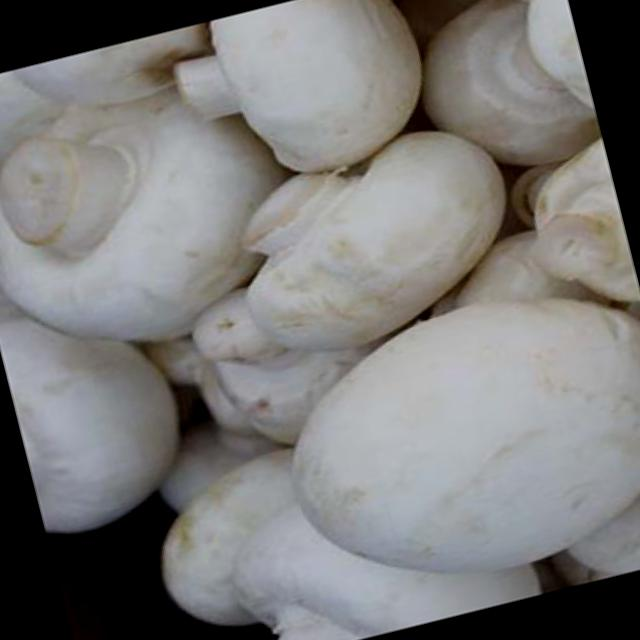Agaricus bisporus: (261, 267, 640, 615), (0, 62, 302, 367), (208, 114, 528, 370), (167, 0, 440, 197)
